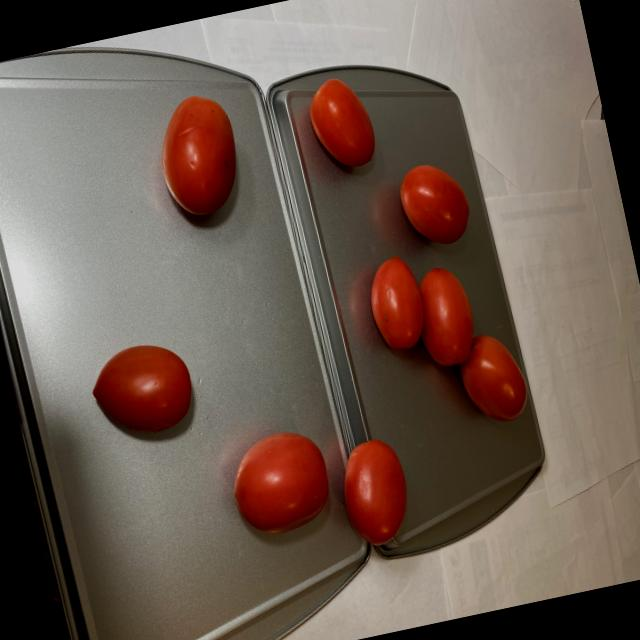tomato: (305, 49, 532, 450), (219, 399, 417, 573), (78, 329, 202, 448), (150, 84, 250, 226)
